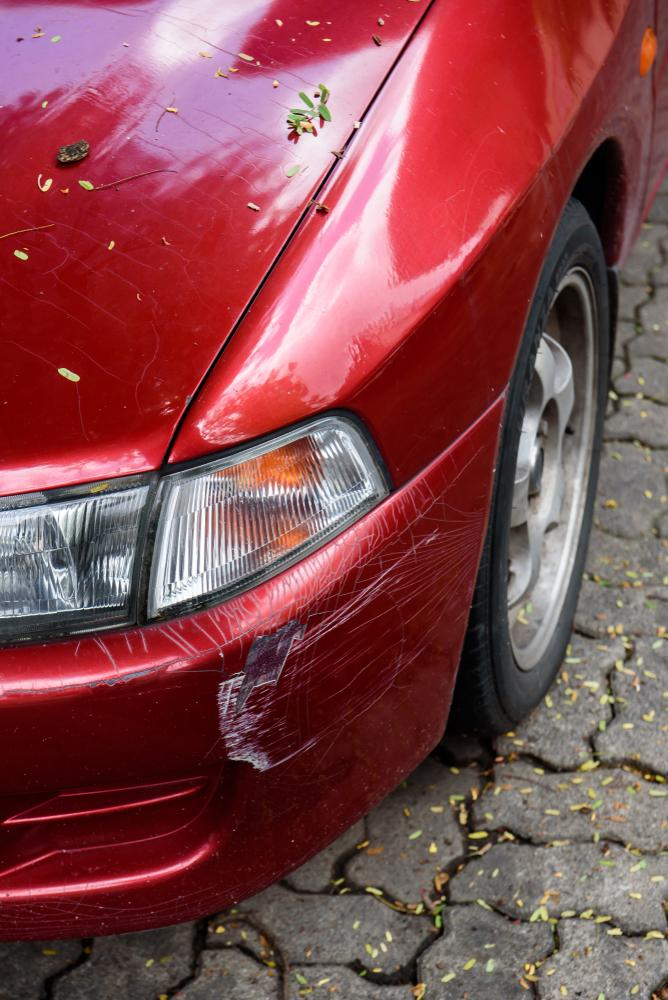scratch: (217, 526, 460, 773)
